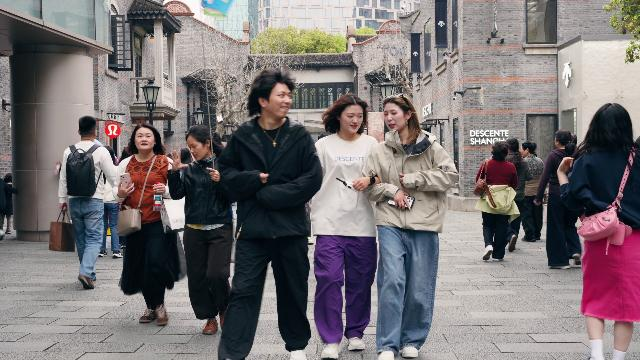person: (215, 66, 323, 360), (361, 93, 459, 360), (554, 102, 640, 360), (309, 95, 381, 359), (166, 124, 238, 334), (112, 122, 182, 326), (58, 116, 121, 289), (533, 129, 582, 270), (475, 141, 521, 261), (500, 137, 534, 252), (518, 141, 546, 243), (0, 173, 18, 236)
